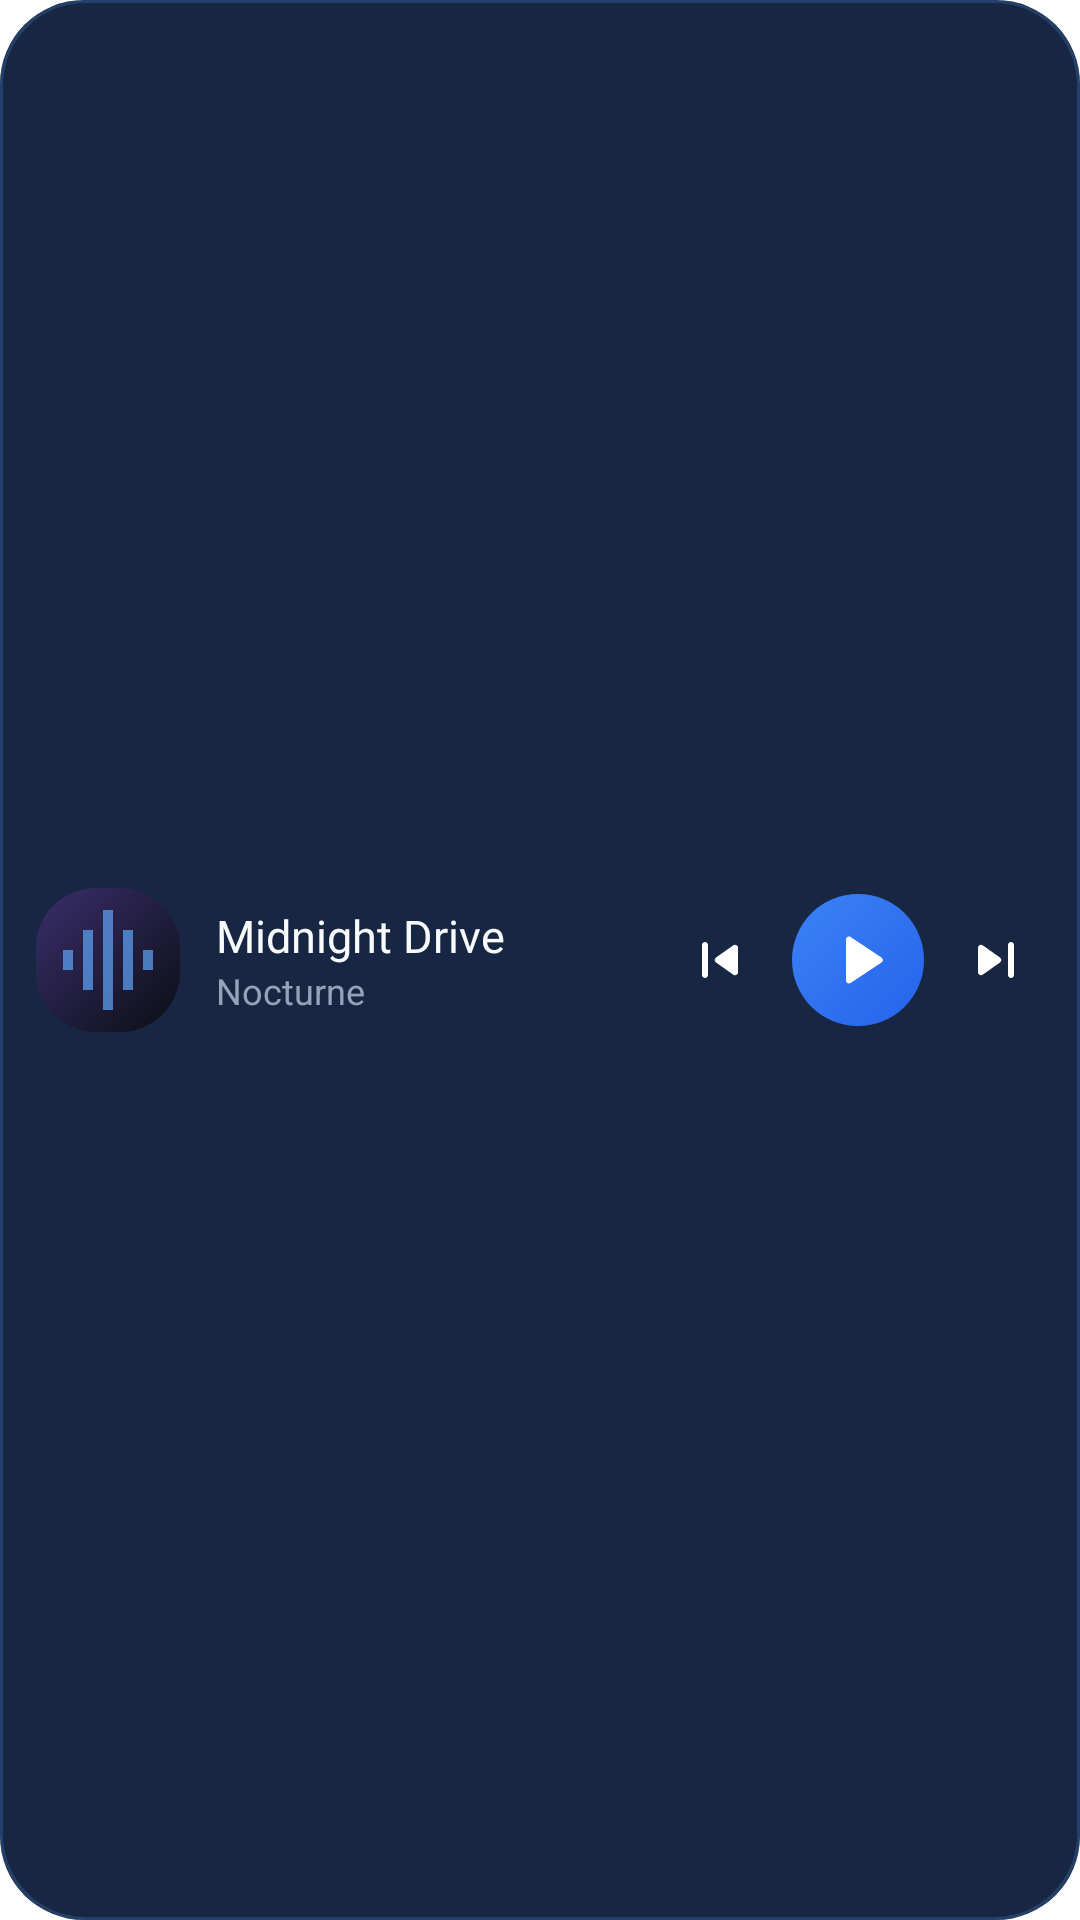

Icon bounding boxes for this 1080×1920 phone screenshot, format (x1, y1, x2, y2):
widget next: (978, 942, 1014, 978)
widget play: (792, 894, 924, 1026)
widget previous: (702, 942, 738, 978)
